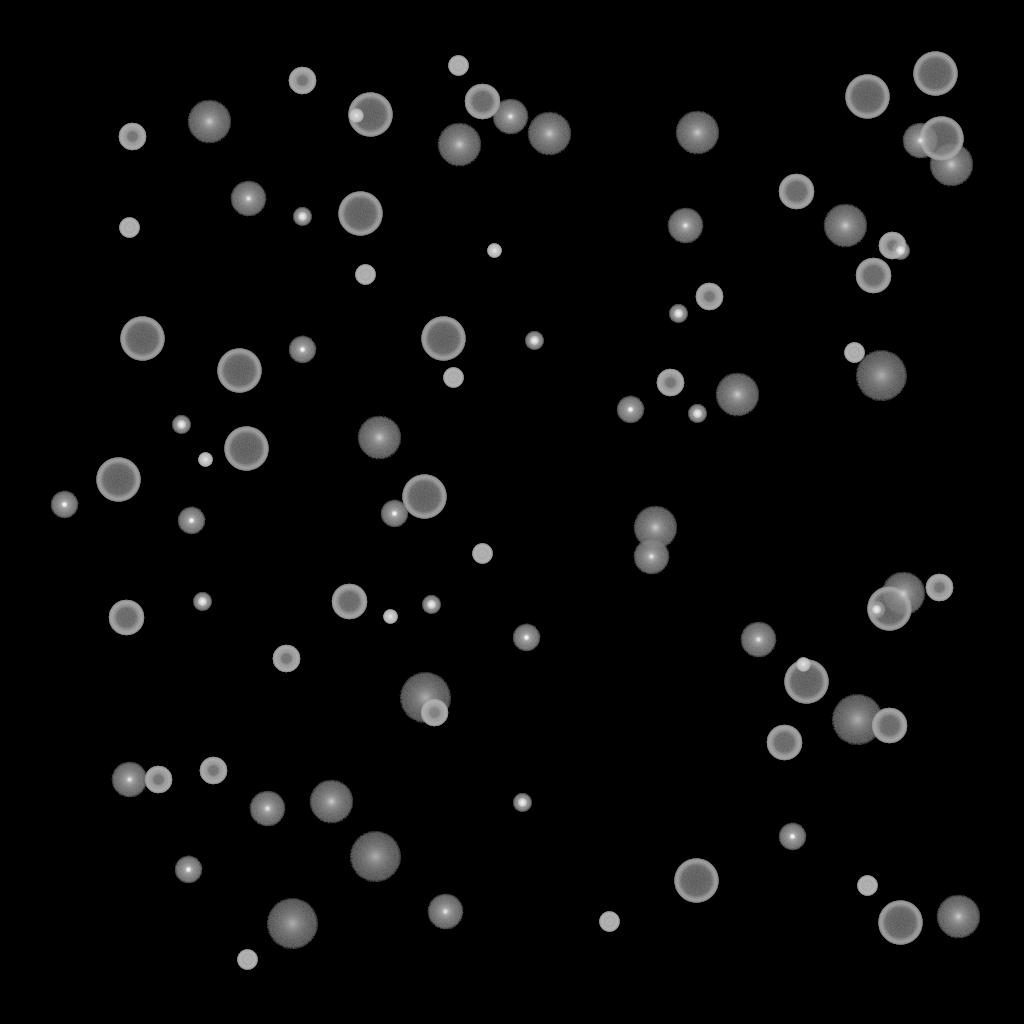depth:-10: (177, 507, 205, 535), (380, 500, 408, 528), (50, 491, 78, 519), (778, 823, 806, 851), (512, 624, 540, 652), (616, 396, 644, 424), (174, 856, 202, 884), (288, 336, 316, 364)
depth:-20: (172, 416, 190, 434), (525, 332, 543, 350), (513, 794, 531, 812), (293, 208, 311, 226), (891, 242, 909, 260), (193, 593, 211, 611), (422, 596, 440, 614), (688, 405, 706, 423), (669, 305, 687, 323), (867, 601, 885, 619)
depth:-30: (487, 244, 501, 258), (198, 453, 212, 467), (349, 109, 363, 123), (796, 658, 810, 672), (383, 610, 397, 624)
depth:-40: (237, 950, 257, 970), (844, 343, 864, 363), (443, 368, 463, 388), (355, 265, 375, 285), (448, 56, 468, 76), (119, 218, 139, 238), (472, 544, 492, 564), (599, 912, 619, 932), (857, 876, 877, 896)
depth:-50: (420, 699, 448, 727), (288, 67, 316, 95), (199, 757, 227, 785), (118, 123, 146, 151), (144, 766, 172, 794), (695, 283, 723, 311), (925, 574, 953, 602), (656, 369, 684, 397), (878, 232, 906, 260), (272, 645, 300, 673)
depth:-60: (871, 708, 907, 744), (108, 600, 144, 636), (331, 584, 367, 620), (766, 725, 802, 761), (778, 174, 814, 210), (855, 258, 891, 294), (464, 84, 500, 120)
depth:-70: (402, 475, 446, 519), (338, 192, 382, 236), (845, 75, 889, 119), (784, 660, 828, 704), (96, 458, 140, 502), (120, 317, 164, 361), (421, 317, 465, 361), (913, 52, 957, 96), (919, 117, 963, 161), (867, 587, 911, 631), (217, 349, 261, 393), (878, 901, 922, 945), (224, 427, 268, 471), (674, 859, 718, 903), (348, 93, 392, 137)
depth:0: (740, 622, 776, 658), (667, 208, 703, 244), (427, 894, 463, 930), (902, 123, 938, 159), (230, 181, 266, 217), (249, 791, 285, 827), (492, 99, 528, 135), (111, 762, 147, 798), (633, 539, 669, 575)
depth:10: (633, 506, 677, 550), (527, 112, 571, 156), (715, 373, 759, 417), (823, 204, 867, 248), (309, 780, 353, 824), (437, 123, 481, 167), (357, 416, 401, 460), (187, 100, 231, 144), (675, 111, 719, 155), (929, 143, 973, 187), (881, 572, 925, 616), (936, 895, 980, 939)
depth:20: (399, 673, 451, 723), (831, 695, 883, 745), (855, 351, 907, 401), (349, 832, 401, 882), (266, 899, 318, 949)
